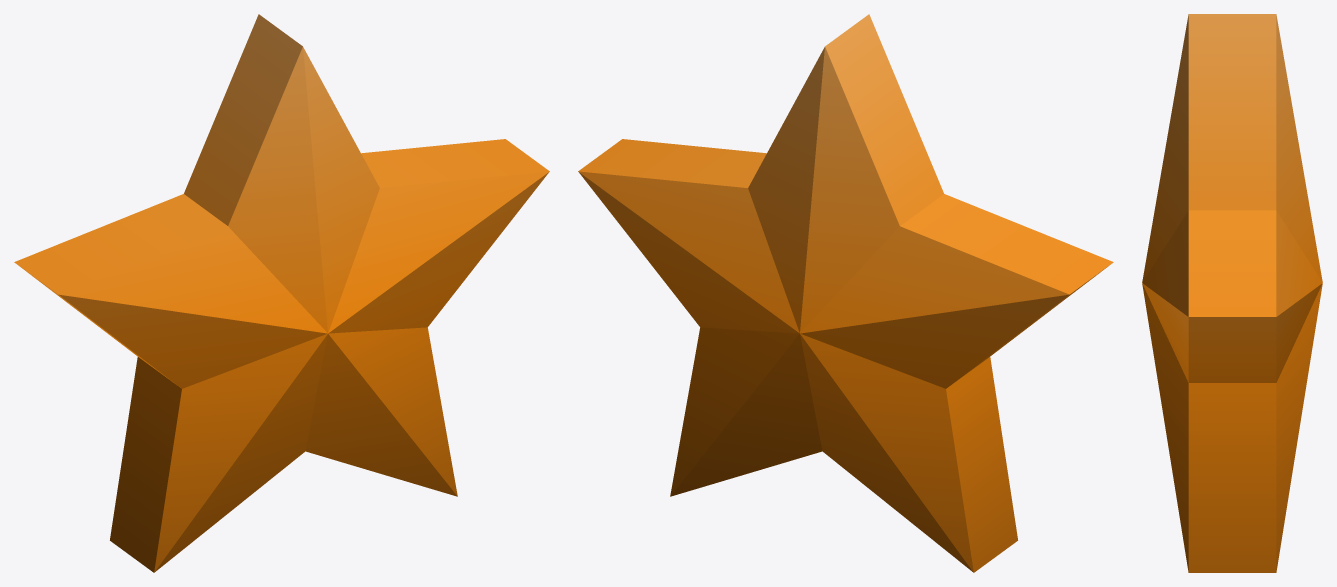
Rendered from Collectable_Star_02.fbx.
The picture shows the model from 3 angles, left to right: view 1: azimuth 30°, elevation 25°; view 2: azimuth 150°, elevation 25°; view 3: azimuth 270°, elevation 25°; orthographic projection.
Parts seen in each view (by area): view 1: Collectable_Star_02; view 2: Collectable_Star_02; view 3: Collectable_Star_02.
Part boxes in pixels (x1,y1,x2,y2): Collectable_Star_02: (14, 14, 549, 572); Collectable_Star_02: (578, 14, 1113, 572); Collectable_Star_02: (1142, 14, 1322, 572).
Bounding box in the file's own units: 75.18 × 71.65 × 24.14.
Materials: 1 (1 with a texture image).
